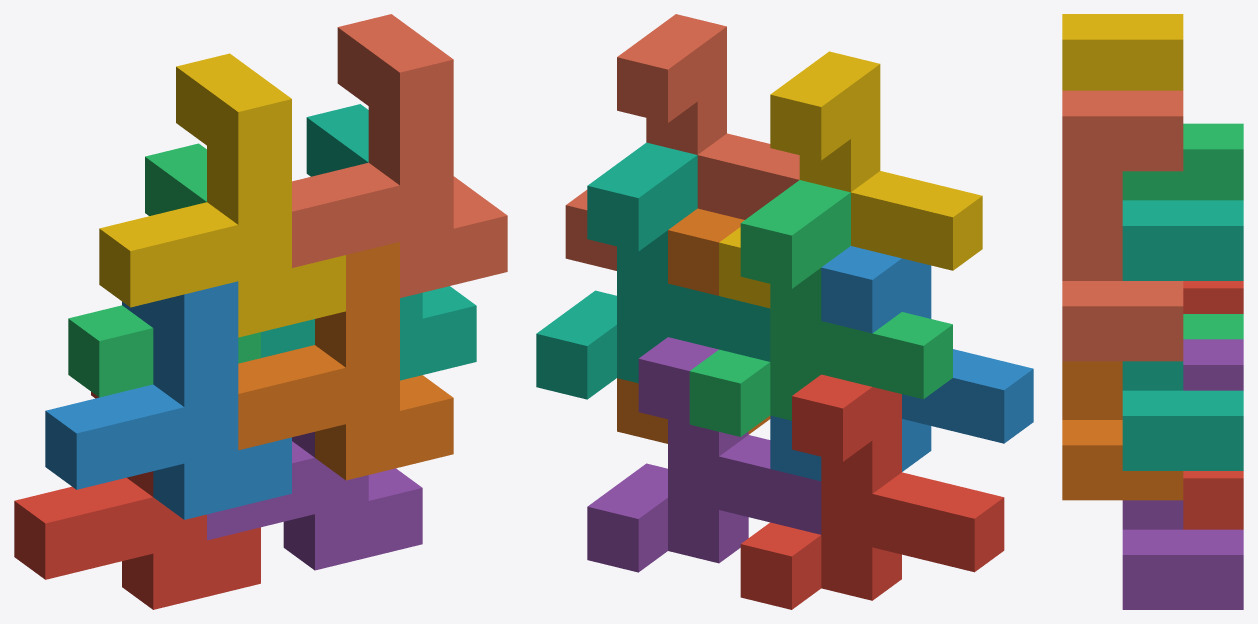
File: tiling.obj
The picture shows the model from 3 angles, left to right: view 1: azimuth 30°, elevation 25°; view 2: azimuth 150°, elevation 25°; view 3: azimuth 270°, elevation 25°; orthographic projection. The views are drawn at different scales.
Visible parts, largest first — view 1: copy_1_domain_4, copy_1_domain_8, copy_1_domain_2, copy_1_domain_6, copy_1_domain_1, copy_1_domain_5, copy_1_domain_7, copy_1_domain_3; view 2: copy_1_domain_1, copy_1_domain_3, copy_1_domain_7, copy_1_domain_5, copy_1_domain_4, copy_1_domain_8, copy_1_domain_2, copy_1_domain_6; view 3: copy_1_domain_8, copy_1_domain_7, copy_1_domain_5, copy_1_domain_6, copy_1_domain_4, copy_1_domain_3, copy_1_domain_1.
Part boxes in pixels (box(x1,y1,x2,y2)): copy_1_domain_4: box(99, 53, 345, 337); copy_1_domain_8: box(292, 14, 507, 297); copy_1_domain_2: box(45, 281, 291, 519); copy_1_domain_6: box(238, 242, 453, 480); copy_1_domain_1: box(14, 392, 260, 609); copy_1_domain_5: box(207, 432, 422, 570); copy_1_domain_7: box(261, 104, 476, 380); copy_1_domain_3: box(68, 143, 260, 397); copy_1_domain_1: box(740, 374, 1004, 609); copy_1_domain_3: box(689, 180, 952, 436); copy_1_domain_7: box(536, 142, 770, 399); copy_1_domain_5: box(587, 337, 821, 572); copy_1_domain_4: box(719, 51, 982, 308); copy_1_domain_8: box(565, 14, 799, 270); copy_1_domain_2: box(770, 246, 1033, 481); copy_1_domain_6: box(617, 208, 770, 443); copy_1_domain_8: box(1062, 90, 1183, 361); copy_1_domain_7: box(1122, 200, 1243, 470); copy_1_domain_5: box(1122, 339, 1243, 609); copy_1_domain_6: box(1062, 361, 1183, 500); copy_1_domain_4: box(1062, 14, 1183, 90); copy_1_domain_3: box(1122, 123, 1243, 339); copy_1_domain_1: box(1183, 281, 1243, 529).
Bounding box in the file's own units: 8 × 9 × 3.
